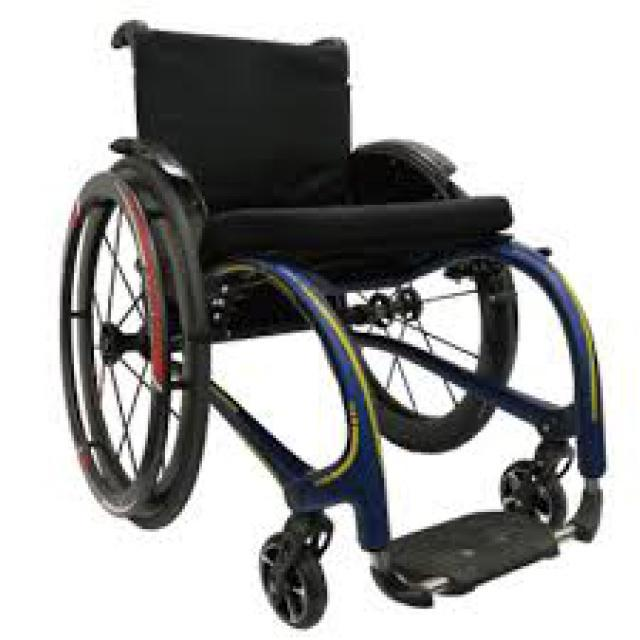wheelchair: (42, 12, 634, 638)
